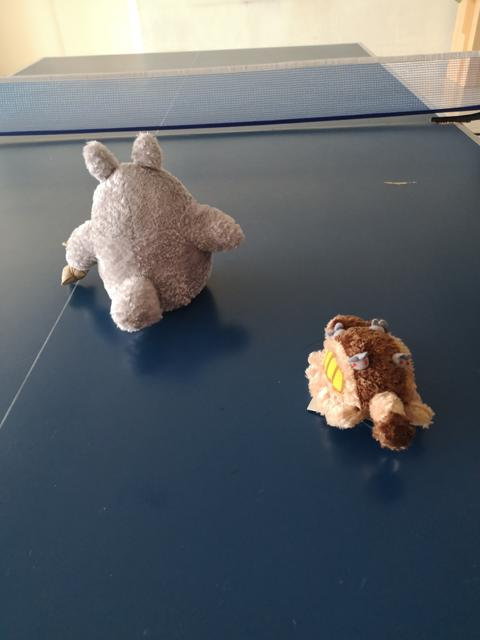nekobus: (303, 307, 436, 456)
totoro: (57, 133, 248, 335)
